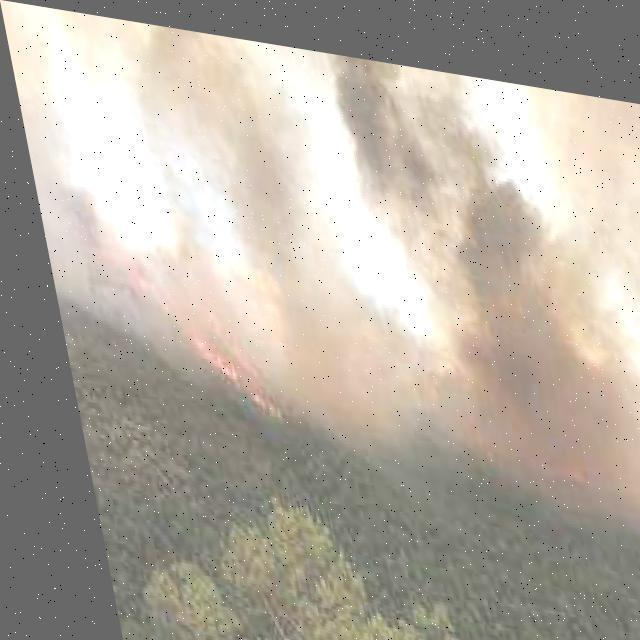Fire: (64, 210, 264, 410)
